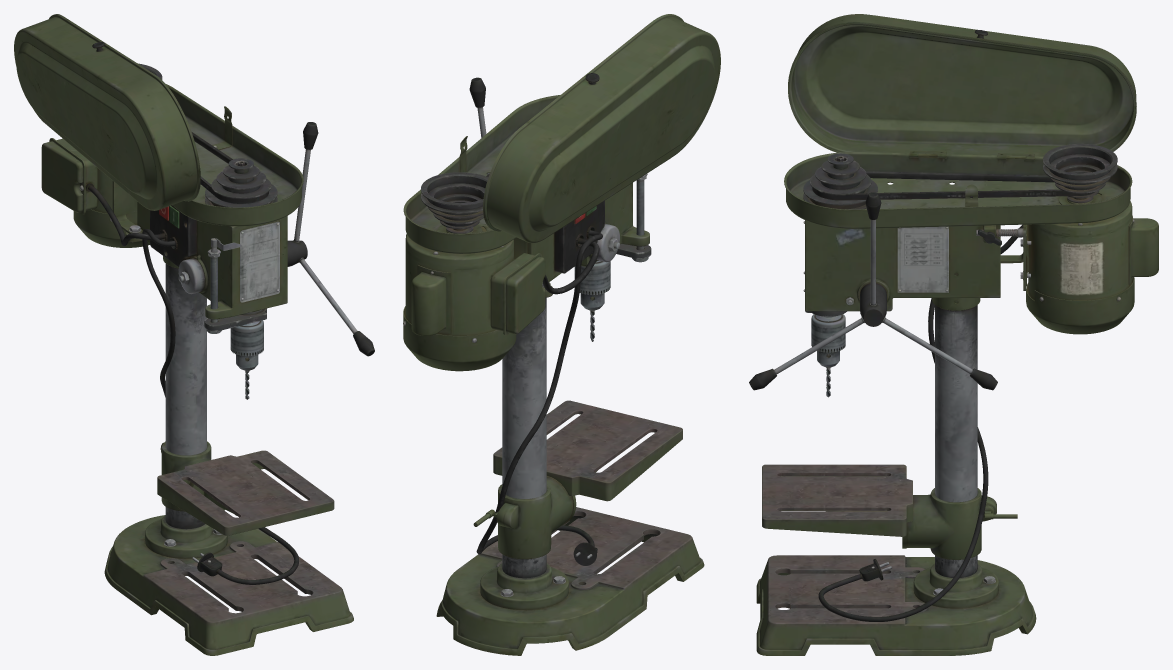
File: drill-press.glb
The picture shows the model from 3 angles, left to right: view 1: azimuth 30°, elevation 25°; view 2: azimuth 150°, elevation 25°; view 3: azimuth 270°, elevation 25°; orthographic projection. The views are drawn at different scales.
Parts seen in each view (by area): view 1: drill_press_01, drill_press_01_lid, drill_press_01_plate, drill_press_01_gear_b, drill_press_01_plug, drill_press_01_handle, drill_press_01_limiter, drill_press_01_bit, drill_press_01_belt; view 2: drill_press_01, drill_press_01_lid, drill_press_01_plate, drill_press_01_gear_a, drill_press_01_plug, drill_press_01_bit, drill_press_01_limiter, drill_press_01_handle; view 3: drill_press_01, drill_press_01_lid, drill_press_01_plate, drill_press_01_handle, drill_press_01_gear_a, drill_press_01_belt, drill_press_01_plug, drill_press_01_gear_b, drill_press_01_bit.
Boxes of the visible parts, <box> form: drill_press_01: <box>41,84,353,655</box>; drill_press_01_lid: <box>14,14,200,210</box>; drill_press_01_plate: <box>157,441,334,535</box>; drill_press_01_gear_b: <box>205,158,277,207</box>; drill_press_01_plug: <box>142,229,298,584</box>; drill_press_01_handle: <box>287,122,374,356</box>; drill_press_01_limiter: <box>204,238,266,333</box>; drill_press_01_bit: <box>230,320,263,399</box>; drill_press_01_belt: <box>191,132,268,203</box>; drill_press_01: <box>403,95,704,655</box>; drill_press_01_lid: <box>483,14,720,243</box>; drill_press_01_plate: <box>493,400,682,559</box>; drill_press_01_gear_a: <box>421,172,488,233</box>; drill_press_01_plug: <box>476,230,602,565</box>; drill_press_01_bit: <box>574,260,610,341</box>; drill_press_01_limiter: <box>616,173,651,262</box>; drill_press_01_handle: <box>469,77,489,174</box>; drill_press_01: <box>756,152,1158,655</box>; drill_press_01_lid: <box>788,14,1136,160</box>; drill_press_01_plate: <box>762,464,996,559</box>; drill_press_01_handle: <box>749,192,997,390</box>; drill_press_01_gear_a: <box>1043,143,1117,203</box>; drill_press_01_belt: <box>812,171,1095,200</box>; drill_press_01_plug: <box>818,298,988,621</box>; drill_press_01_gear_b: <box>803,153,877,209</box>; drill_press_01_bit: <box>811,314,845,397</box>.
Bounding box in the file's own units: 0.3543 × 0.9011 × 0.5988.
1 material, 1 textured.
